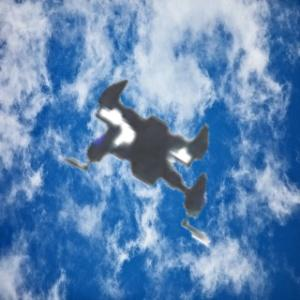drone: (1, 3, 298, 300)
